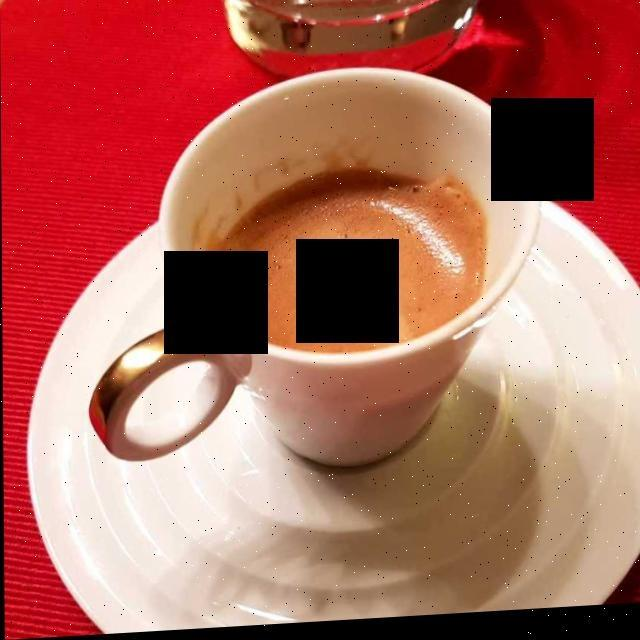drink: (221, 177, 484, 355)
